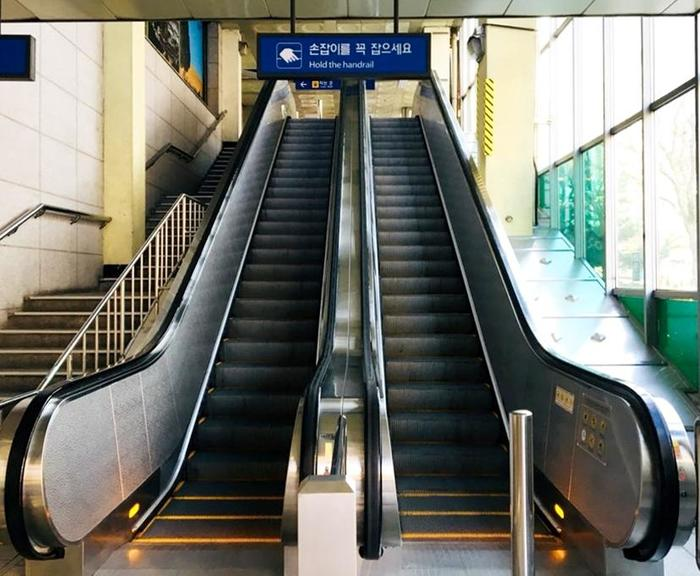escalator: (334, 332, 691, 572), (2, 335, 351, 572)
stairs: (1, 294, 132, 367)
